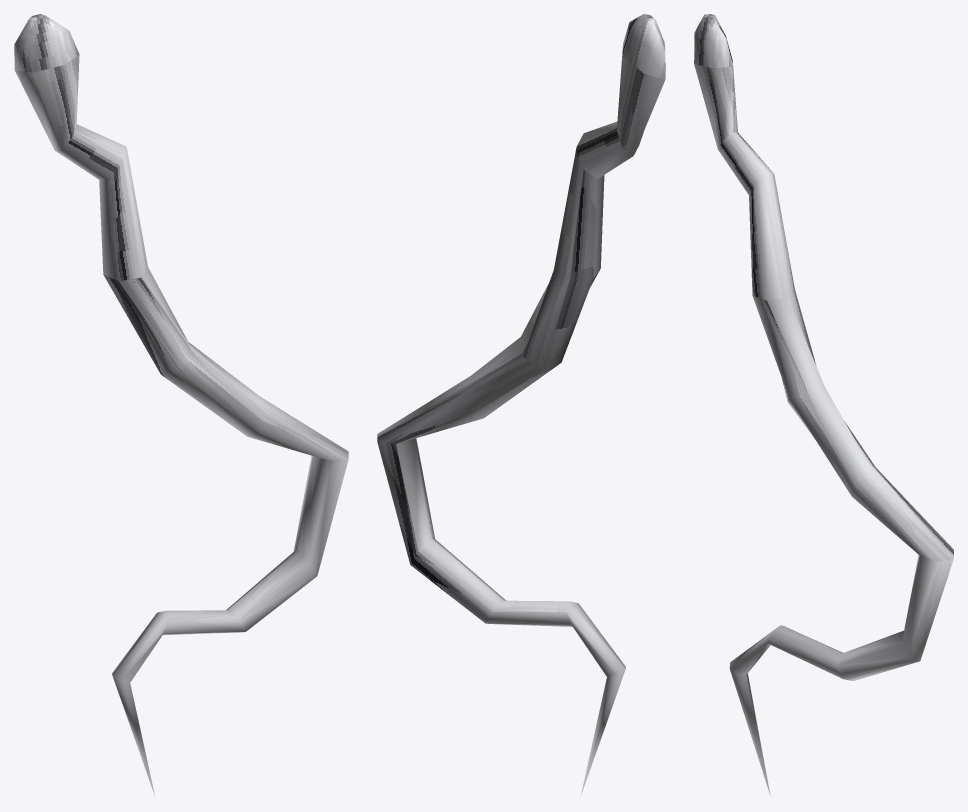
Rendered from snake_000008.obj.
The picture shows the model from 3 angles, left to right: view 1: azimuth 30°, elevation 25°; view 2: azimuth 150°, elevation 25°; view 3: azimuth 330°, elevation 25°; orthographic projection. The views are drawn at different scales.
Parts seen in each view (by area): view 1: Cylinder; view 2: Cylinder; view 3: Cylinder.
Boxes of the visible parts, box(x1,y1,x2,y2) form: Cylinder: box(14, 14, 348, 796); Cylinder: box(377, 14, 665, 796); Cylinder: box(694, 14, 953, 796).
Bounding box in the file's own units: 3.24 × 7.99 × 0.7838.
